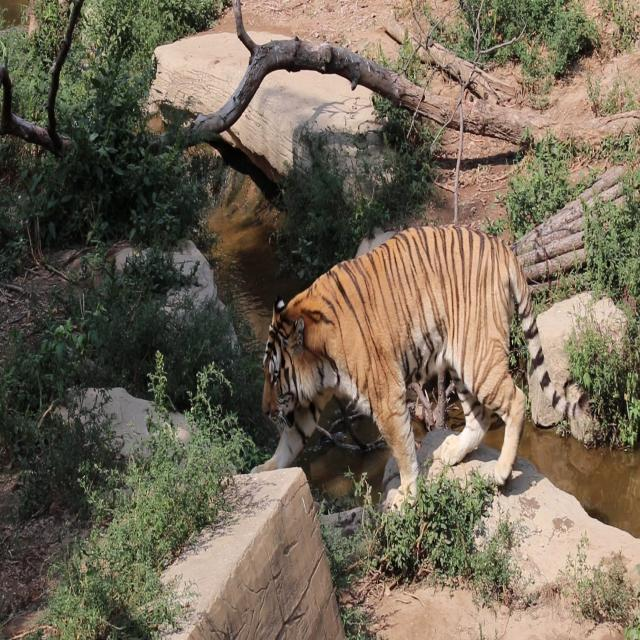Tiger: (258, 210, 578, 489)
